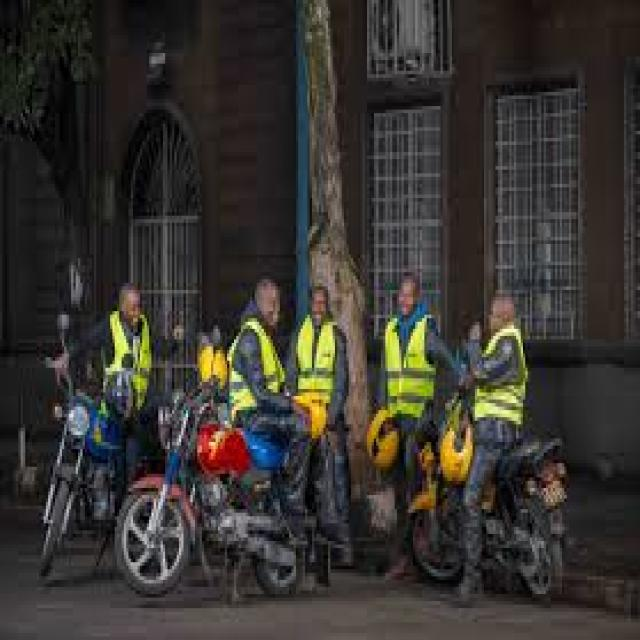bodaboda: (382, 316, 612, 620), (114, 312, 308, 620), (25, 234, 133, 613)
